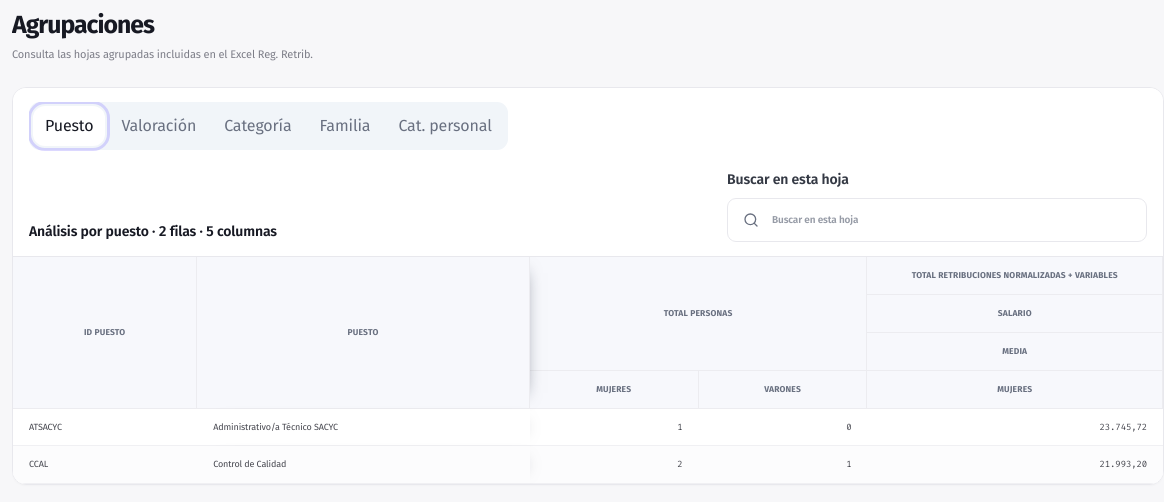
it: TablesView › renders Agrupaciones as a grouped Excel sheet viewer
The image size is (1164, 502).
Press ArrowRight in the tab "Puesto", box [33,106,106,146]
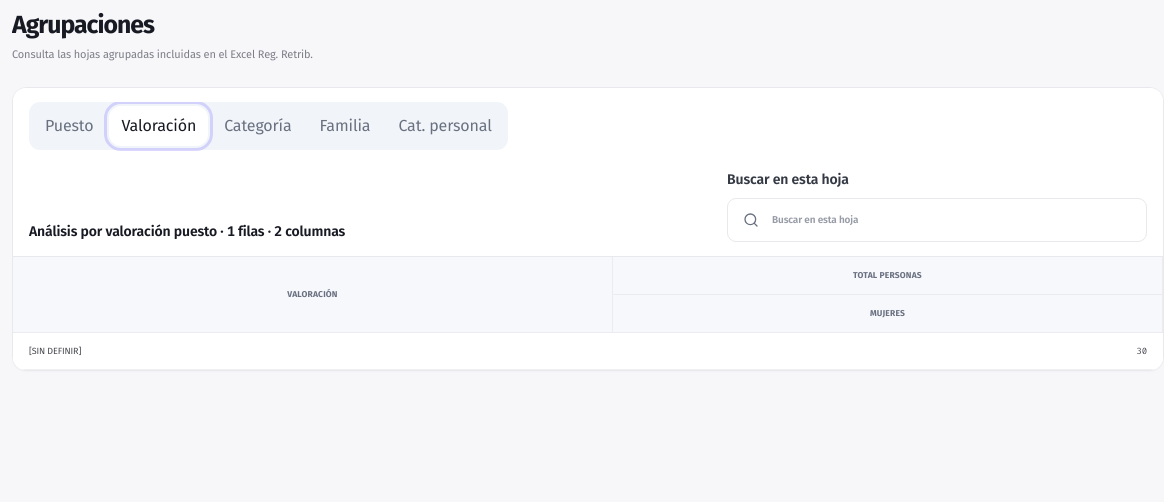
Expected: the tab "Valoración" is selected
Press Home in the tab "Valoración", box [110,106,208,146]
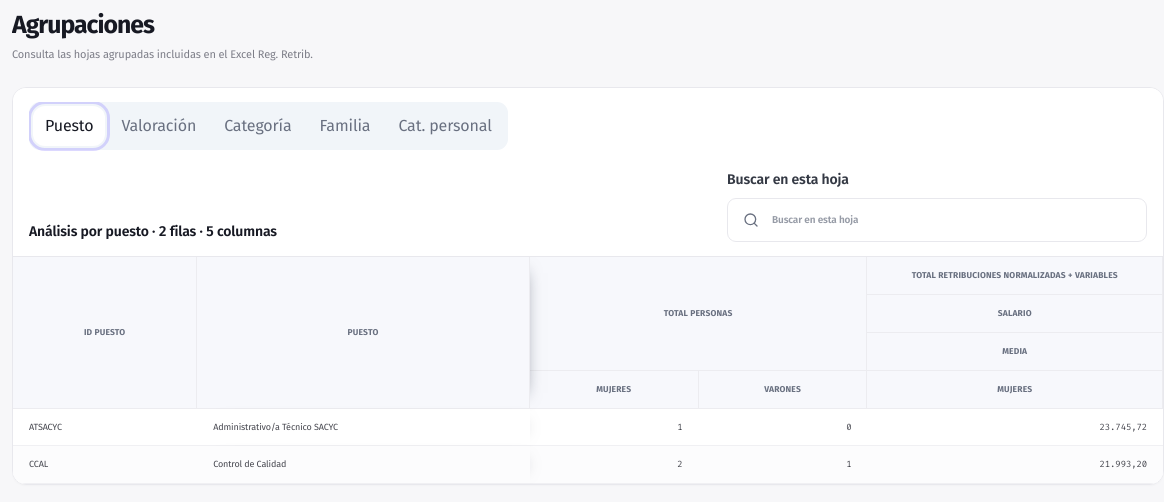
Expected: the element labelled "Análisis por puesto · 2 filas · 5 columnas" is shown, [29,223,277,240]
Expected: the column heading "Puesto" is shown, [197,257,530,409]
Expected: the column heading "ID Puesto" is shown, [13,257,197,409]
In the search field with placeholder "Buscar en esta hoja": (937, 220) [727,198,1147,242], type "calidad"
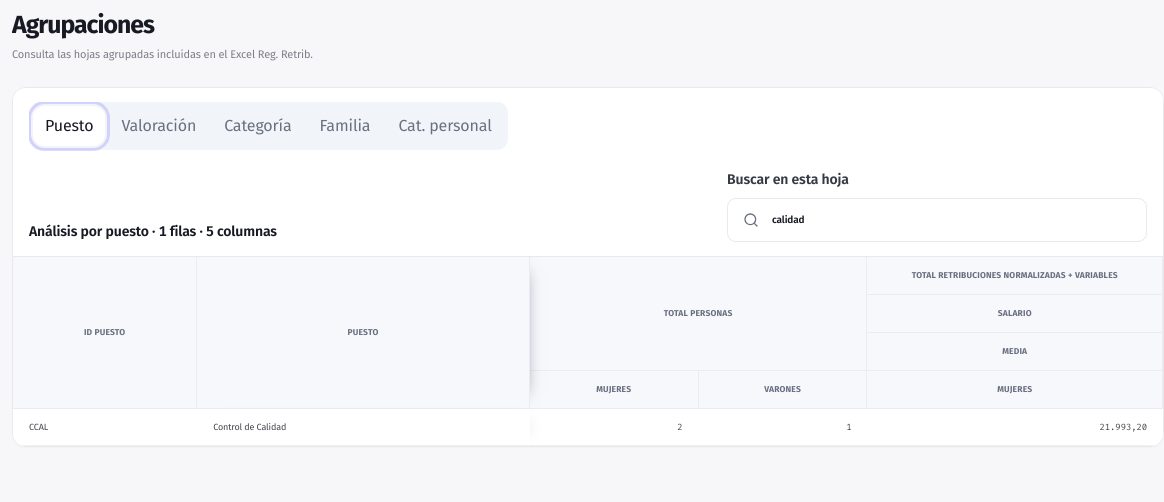
Expected: the text "Administrativo/a Técnico SACYC" is gone
Expected: the text "Control de Calidad" is shown, [197,409,530,446]
Click the tab "Valoración": (159, 126) [110,106,208,146]
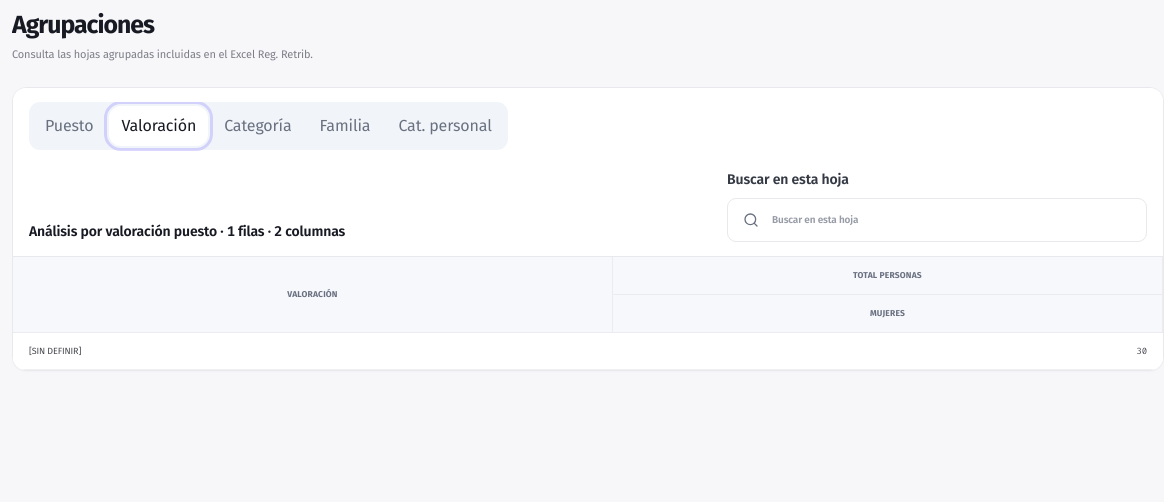
Expected: the column heading titled "Valoración Retributiva" is shown, [287,289,338,299]
Expected: the text "[SIN DEFINIR]" is shown, [13,333,613,370]
